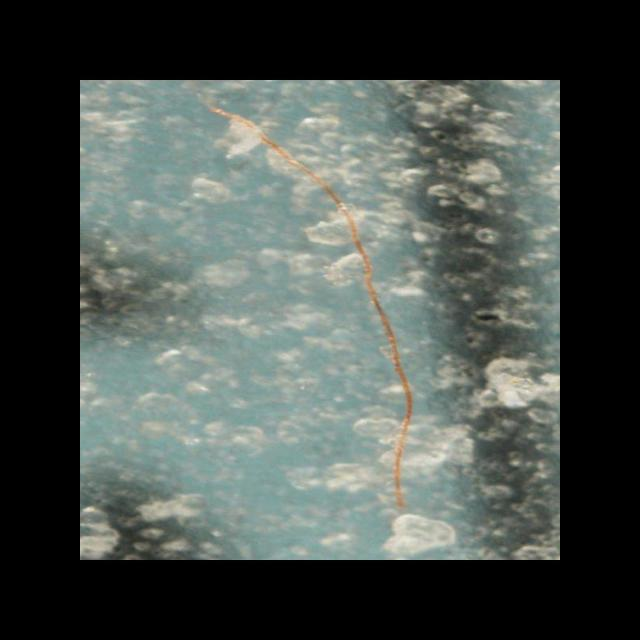Fibre: (204, 107, 414, 510)
